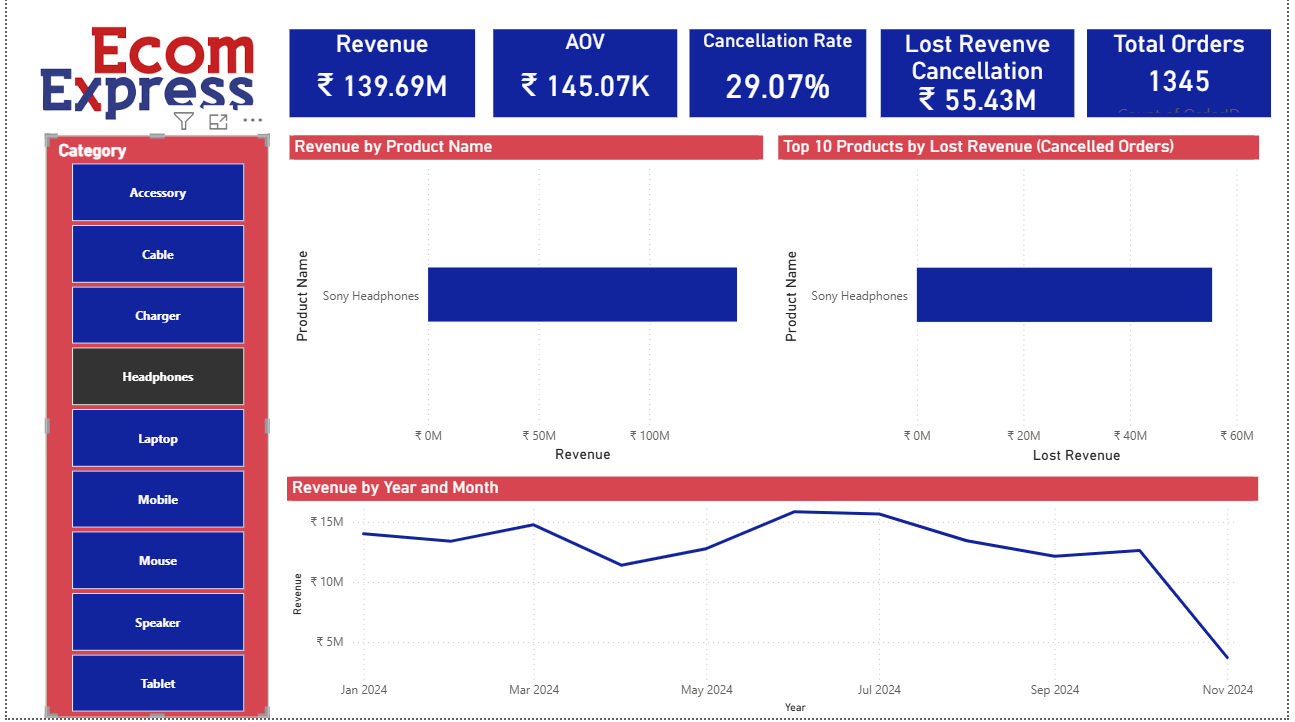

The page's visual inventory and layout, read from the dashboard file:
{"tool":"powerbi","page":{"name":"Page 1","canvas":[1280,720],"ordinal":0},"visuals":[{"type":"image","box":[0,13.7,279.9,123.5],"z":0},{"type":"barChart","fields":{"Y":["table.Revenue"],"Category":["Product.Product Name"]},"box":[282.7,137.2,473.4,332.1],"z":1000},{"type":"barChart","title":"Top 10 Products by Lost Revenue (Cancelled Orders)","fields":{"Category":["Product.Product Name"],"Y":["table.lost_rev_cancellation"]},"box":[770.8,137.3,480.4,332.6],"z":2000},{"type":"lineChart","fields":{"Y":["table.Revenue"],"Category":["Orders.Date and time of purchase.Variation.Date Hierarchy.Year","Orders.Date and time of purchase.Variation.Date Hierarchy.Month"]},"box":[279.9,478.9,971.5,241.5],"z":3000},{"type":"card","title":"Revenue","fields":{"Values":["table.Revenue"]},"box":[282.7,31.6,185.2,87.8],"z":4000},{"type":"card","title":"Total Orders","fields":{"Values":["CountNonNull(Orders.OrderID)"]},"box":[1079.9,31.6,183.9,87.8],"z":5000},{"type":"card","title":"AOV","fields":{"Values":["table.AOV"]},"box":[485.8,31.6,183.9,87.8],"z":6000},{"type":"card","title":"Cancellation Rate","fields":{"Values":["table.Cancellation Rate"]},"box":[682,31.6,177,87.8],"z":7000},{"type":"card","title":"Lost Revenve Cancellation","fields":{"Values":["table.lost_rev_cancellation"]},"box":[874.1,31.6,193.5,87.8],"z":8000},{"type":"slicer","fields":{"Values":["Product.Category"]},"box":[38.4,137.2,222.3,583.2],"z":9000}]}

Visuals, with their boxes on the page's 1280x720 design canvas (x1, y1, x2, y2). These are canvas units, not pixel positions in the 1295x722 screenshot, which may show the page scaled, cropped or inside an application window:
image: BBox(0, 14, 280, 137)
barChart - table.Revenue x Product.Product Name: BBox(283, 137, 756, 469)
"Top 10 Products by Lost Revenue (Cancelled Orders)" barChart: BBox(771, 137, 1251, 470)
lineChart - table.Revenue x Orders.Date and time of purchase.Variation.Date Hierarchy.Year: BBox(280, 479, 1251, 720)
"Revenue" card: BBox(283, 32, 468, 119)
"Total Orders" card: BBox(1080, 32, 1264, 119)
"AOV" card: BBox(486, 32, 670, 119)
"Cancellation Rate" card: BBox(682, 32, 859, 119)
"Lost Revenve Cancellation" card: BBox(874, 32, 1068, 119)
slicer - Product.Category: BBox(38, 137, 261, 720)
